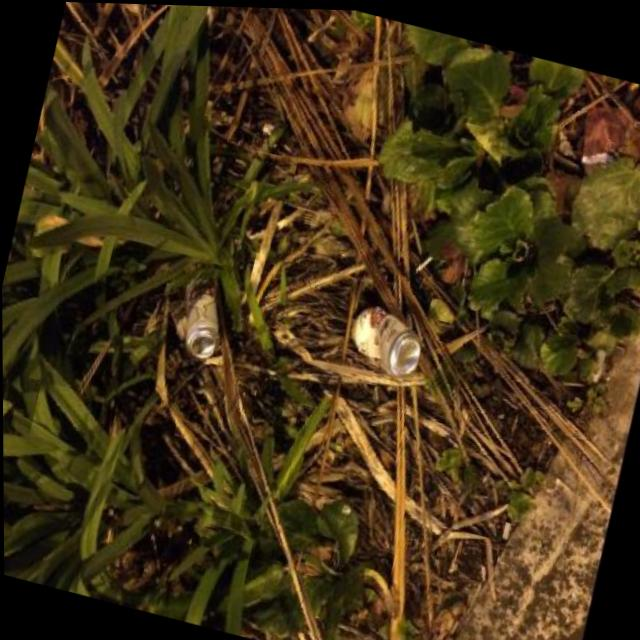metal: (344, 301, 430, 384), (173, 270, 235, 363)
